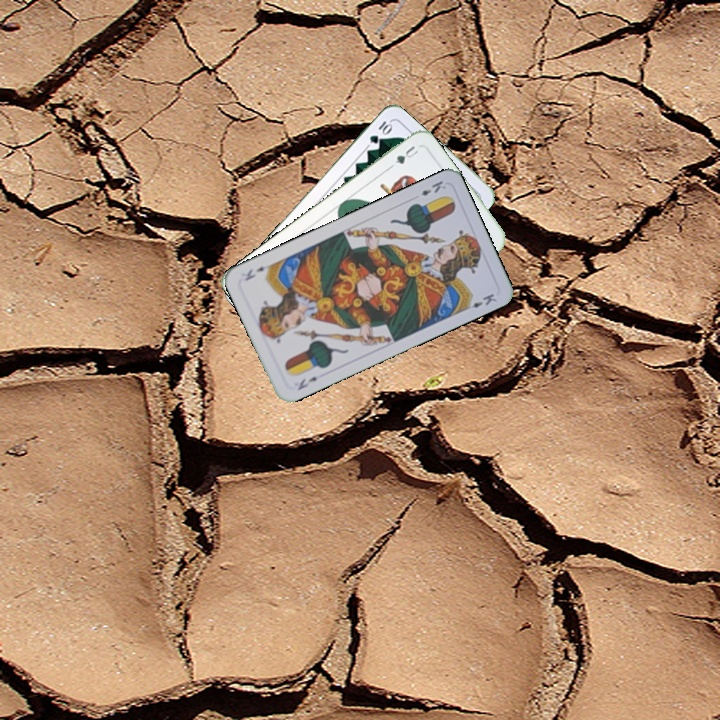EK: (417, 176, 449, 198), (293, 373, 320, 393)
G10: (365, 117, 395, 146)
GU: (391, 141, 421, 167)
